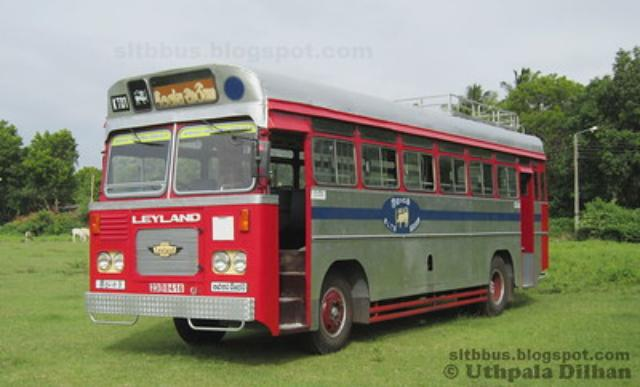bus: (83, 62, 552, 354)
